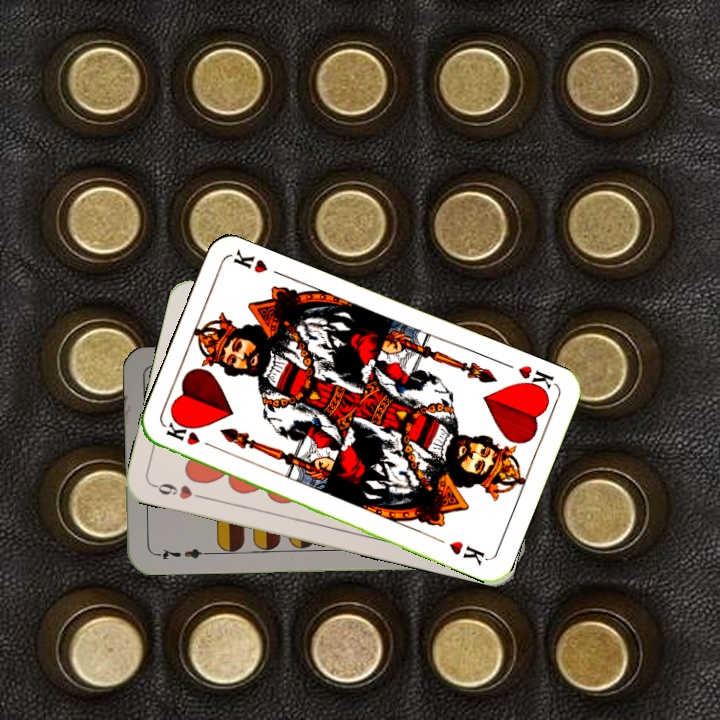E7: (151, 544, 210, 563)
H9: (149, 479, 208, 502)
HK: (162, 418, 220, 452), (513, 361, 558, 398)
